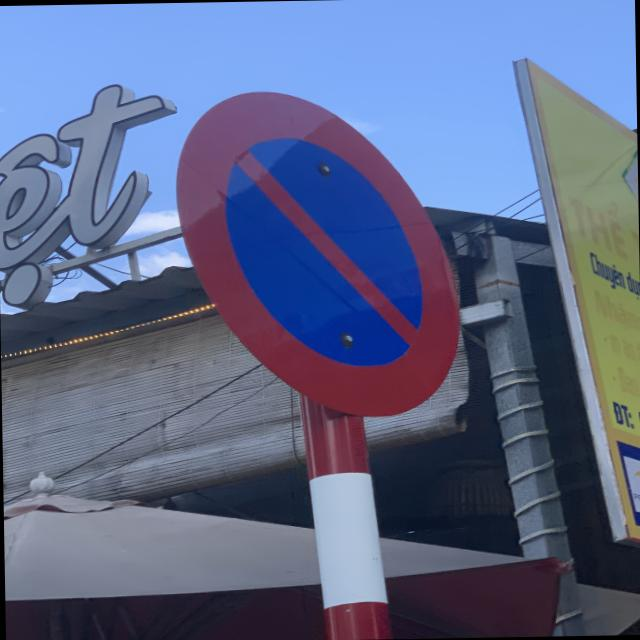Cam_Dau_Xe: (174, 86, 462, 416)
